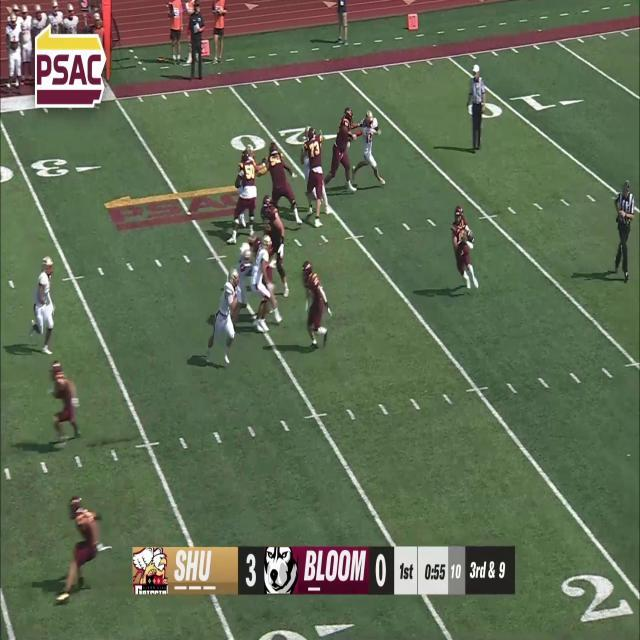football: (466, 228, 474, 244)
